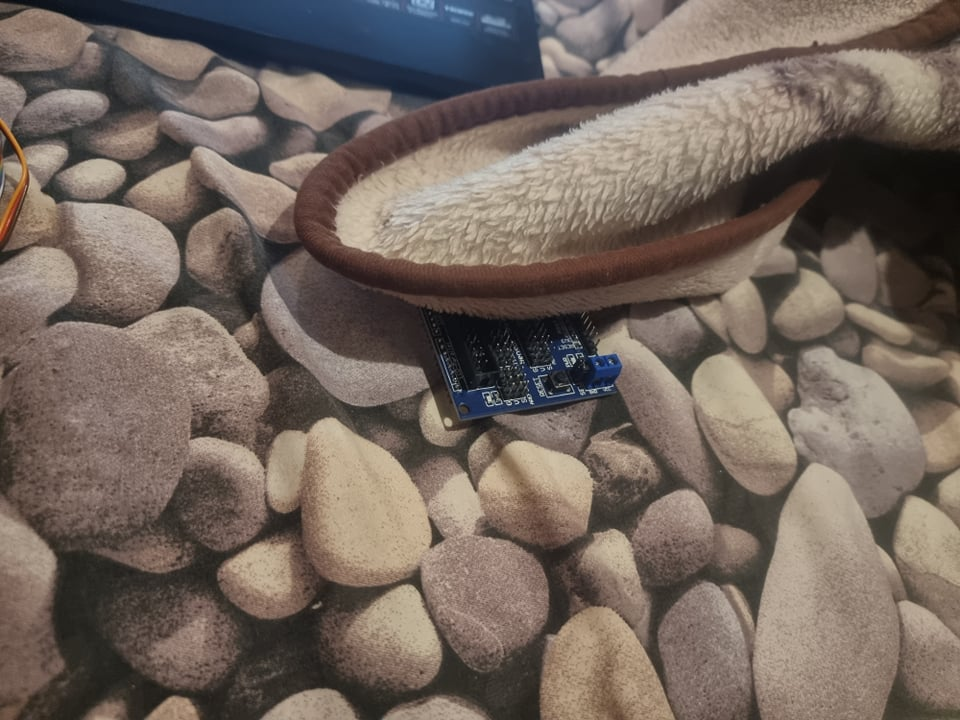5V EXPANSION: (416, 301, 623, 424)
